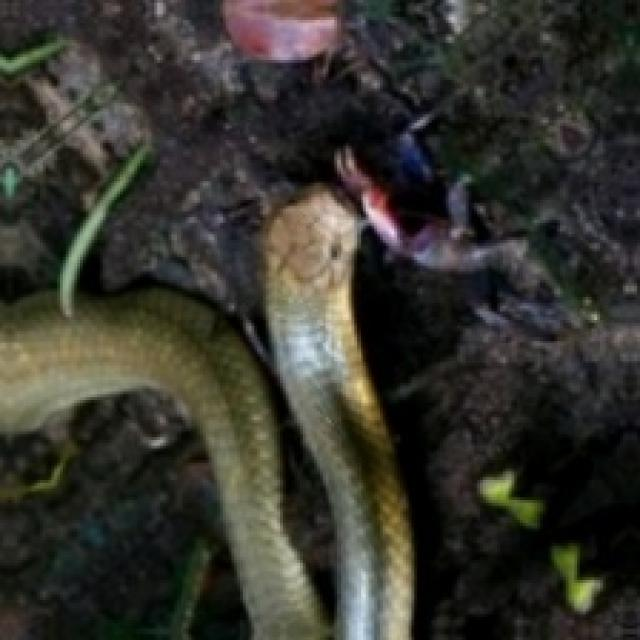king cobra: (0, 186, 411, 637), (0, 289, 329, 637)
